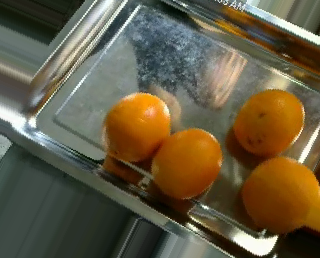Orange: (242, 155, 320, 233), (151, 126, 223, 198), (232, 88, 305, 155), (103, 91, 171, 162)
